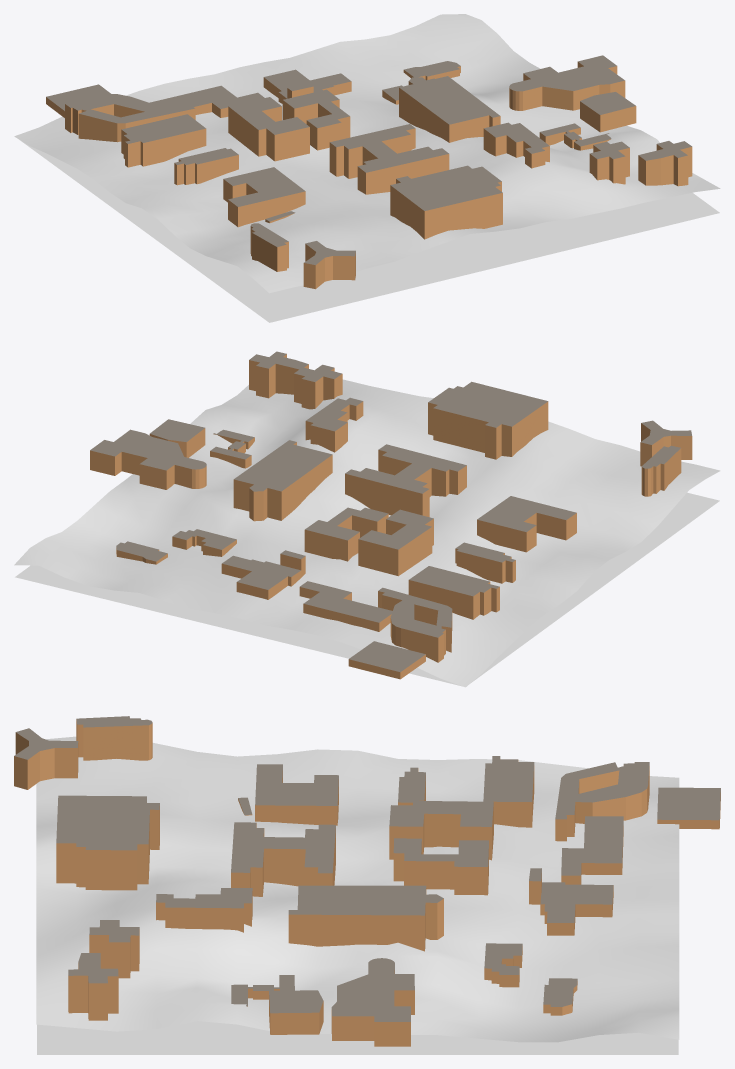
The model's file is XIN.glb.
3 views of the same model, one above another, from view 1: azimuth 30°, elevation 25°; view 2: azimuth 150°, elevation 25°; view 3: azimuth 270°, elevation 25° (orthographic). The views are drawn at different scales.
Visible parts, largest first — view 1: Terrain, Terrain_envelope, 綜合一館, 工程五館, 浩然圖書資訊中心, 學生活動中心, 科學三館, 工程四館, 工程六館, 田家炳光電大樓, 工程三館, 女二舍A棟 (+11 smaller); view 2: Terrain, Terrain_envelope, 綜合一館, 工程五館, 浩然圖書資訊中心, 學生活動中心, 工程六館, 科學三館, 工程四館, 田家炳光電大樓, 工程三館, 科學一館 (+12 smaller); view 3: Terrain, Terrain_envelope, 綜合一館, 浩然圖書資訊中心, 工程五館, 學生活動中心, 科學三館, 工程四館, 工程三館, 工程六館, 管理二館, 研二舍 (+12 smaller).
Boxes of the visible parts, left/top/right/bottom form: Terrain: left=14, top=14, right=720, bottom=293; Terrain_envelope: left=20, top=140, right=719, bottom=322; 綜合一館: left=390, top=165, right=502, bottom=239; 工程五館: left=329, top=124, right=449, bottom=194; 浩然圖書資訊中心: left=399, top=76, right=500, bottom=142; 學生活動中心: left=509, top=55, right=625, bottom=110; 科學三館: left=65, top=94, right=195, bottom=142; 工程四館: left=228, top=97, right=309, bottom=161; 工程六館: left=223, top=167, right=305, bottom=227; 田家炳光電大樓: left=121, top=114, right=206, bottom=167; 工程三館: left=282, top=89, right=350, bottom=150; 女二舍A棟: left=638, top=141, right=692, bottom=186; Terrain: left=14, top=379, right=720, bottom=687; Terrain_envelope: left=15, top=492, right=719, bottom=686; 綜合一館: left=428, top=381, right=548, bottom=459; 工程五館: left=345, top=444, right=466, bottom=517; 浩然圖書資訊中心: left=233, top=440, right=332, bottom=521; 學生活動中心: left=90, top=429, right=206, bottom=489; 工程六館: left=477, top=496, right=576, bottom=552; 科學三館: left=378, top=587, right=452, bottom=662; 工程四館: left=358, top=509, right=433, bottom=576; 田家炳光電大樓: left=408, top=566, right=499, bottom=619; 工程三館: left=304, top=507, right=388, bottom=561; 科學一館: left=299, top=581, right=392, bottom=631; Terrain: left=36, top=736, right=679, bottom=1042; Terrain_envelope: left=37, top=1021, right=678, bottom=1054; 綜合一館: left=56, top=795, right=159, bottom=890; 浩然圖書資訊中心: left=288, top=885, right=443, bottom=951; 工程五館: left=231, top=822, right=335, bottom=896; 學生活動中心: left=331, top=958, right=414, bottom=1046; 科學三館: left=555, top=762, right=649, bottom=841; 工程四館: left=389, top=800, right=493, bottom=860; 工程三館: left=393, top=838, right=488, bottom=895; 工程六館: left=255, top=764, right=338, bottom=825; 管理二館: left=156, top=888, right=252, bottom=932; 研二舍: left=76, top=716, right=152, bottom=760.
Bounding box in the file's own units: 540 × 70.3 × 544.
